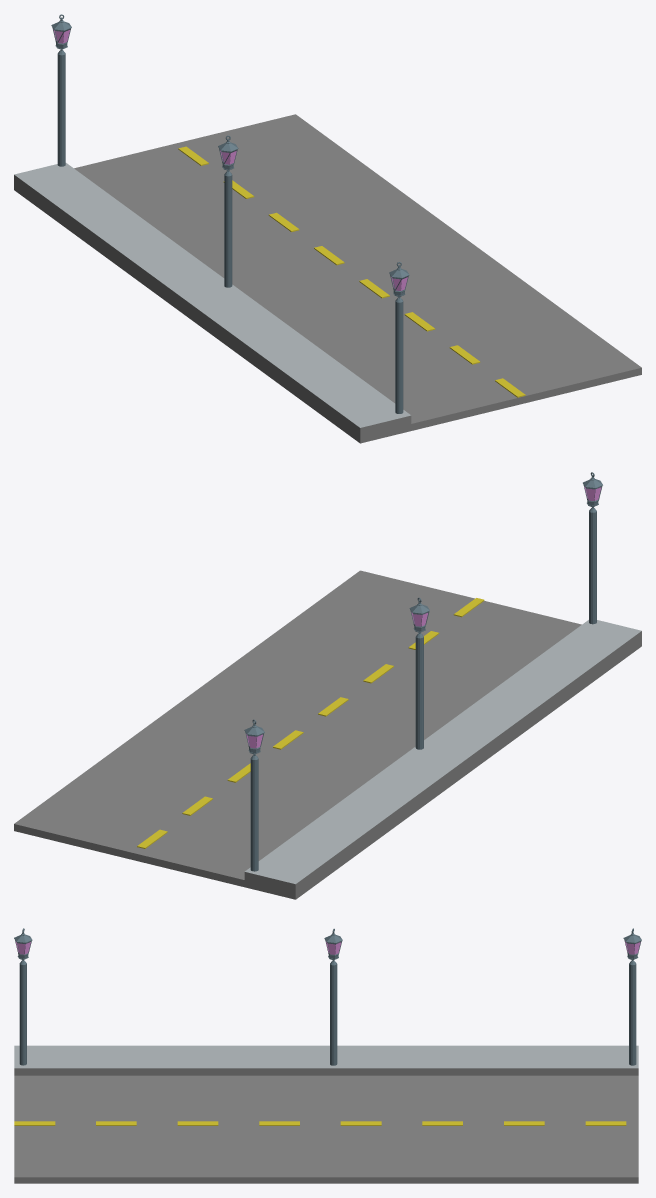
The picture shows the model from 3 angles, top to bottom: view 1: azimuth 30°, elevation 25°; view 2: azimuth 150°, elevation 25°; view 3: azimuth 270°, elevation 25°; orthographic projection. The views are drawn at different scales.
Parts seen in each view (by area): view 1: node_MeshObject-1154321024-PolyPaper22; view 2: node_MeshObject-1154321024-PolyPaper22; view 3: node_MeshObject-1154321024-PolyPaper22, node_MeshObject-635600960-PolyGem25.
Part boxes in pixels (bbox=[...]): node_MeshObject-1154321024-PolyPaper22: bbox=[14, 14, 641, 443]; node_MeshObject-1154321024-PolyPaper22: bbox=[14, 472, 641, 899]; node_MeshObject-1154321024-PolyPaper22: bbox=[14, 928, 641, 1183]; node_MeshObject-635600960-PolyGem25: bbox=[15, 941, 640, 954].
Size of the model in its own units: 2.8 by 1.59 by 6.
